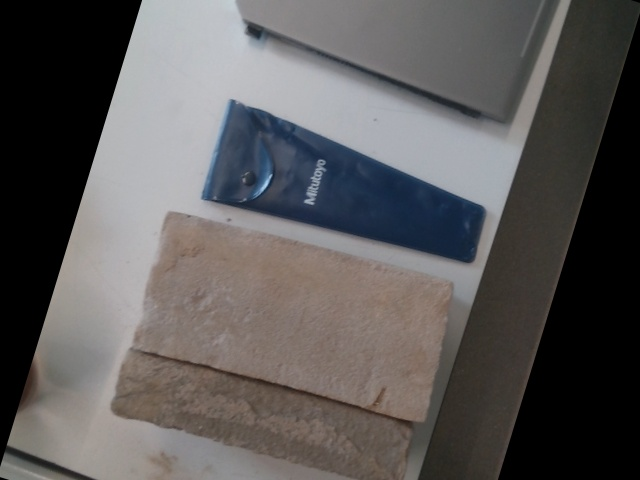brick: (141, 215, 450, 412)
